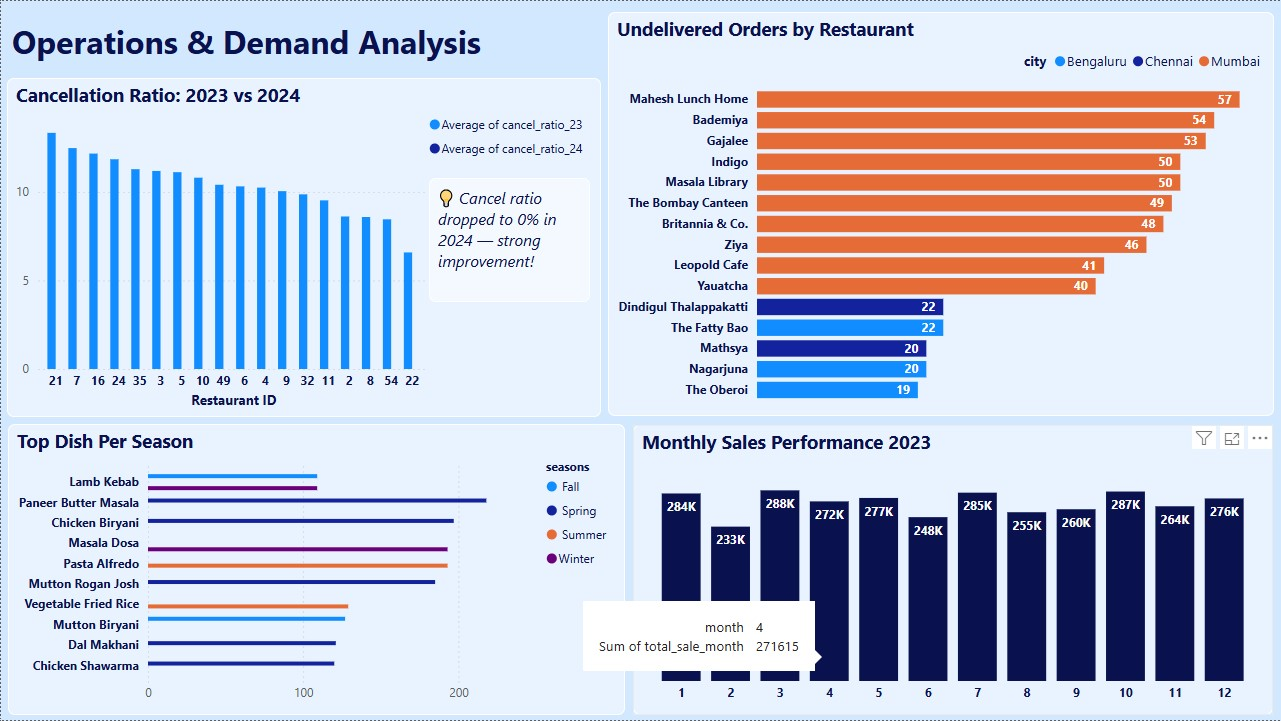

The page's visual inventory and layout, read from the dashboard file:
{"tool":"powerbi","page":{"name":"operations_and_demand_analysis","canvas":[1280,720],"ordinal":4},"visuals":[{"type":"textbox","box":[5.8,12.6,575.8,64.2],"z":0},{"type":"clusteredBarChart","title":"Top Dish Per Season","fields":{"Category":["order_item_popularity_based_on_seasons.order_item"],"Y":["Sum(order_item_popularity_based_on_seasons.total_orders)"],"Series":["order_item_popularity_based_on_seasons.seasons"]},"box":[7,423,617,291],"z":1000},{"type":"barChart","title":"Undelivered Orders by Restaurant","fields":{"Category":["orders_without_delivery.restaurant_name"],"Y":["Sum(orders_without_delivery.not_delivered)"],"Series":["orders_without_delivery.city"]},"box":[607.3,10.9,665.5,404.5],"z":2000},{"type":"columnChart","title":"Monthly Sales Performance 2023","fields":{"Y":["Sum(monthly_sales_trend.total_sale_month)"],"Category":["monthly_sales_trend.month"]},"box":[632,424,640,290],"z":3000},{"type":"clusteredColumnChart","title":"Cancellation Ratio: 2023 vs 2024","fields":{"Y":["Avg(cancellation_ratio_comparison.cancel_ratio_23)","Avg(cancellation_ratio_comparison.cancel_ratio_24)"],"Category":["cancellation_ratio_comparison.restaurant_id"]},"box":[5.6,76.7,594.4,338.9],"z":4000},{"type":"textbox","box":[428,177,161,124],"z":5000}]}

Visuals, with their boxes in screenshot pixels (x1, y1, x2, y2), scaled from the page's 1280x720 canvas onto the 1281x721 screenshot:
textbox: {"x1": 6, "y1": 13, "x2": 582, "y2": 77}
"Top Dish Per Season" clusteredBarChart: {"x1": 7, "y1": 424, "x2": 624, "y2": 715}
"Undelivered Orders by Restaurant" barChart: {"x1": 608, "y1": 11, "x2": 1274, "y2": 416}
"Monthly Sales Performance 2023" columnChart: {"x1": 632, "y1": 425, "x2": 1273, "y2": 715}
"Cancellation Ratio: 2023 vs 2024" clusteredColumnChart: {"x1": 6, "y1": 77, "x2": 600, "y2": 416}
textbox: {"x1": 428, "y1": 177, "x2": 589, "y2": 301}
